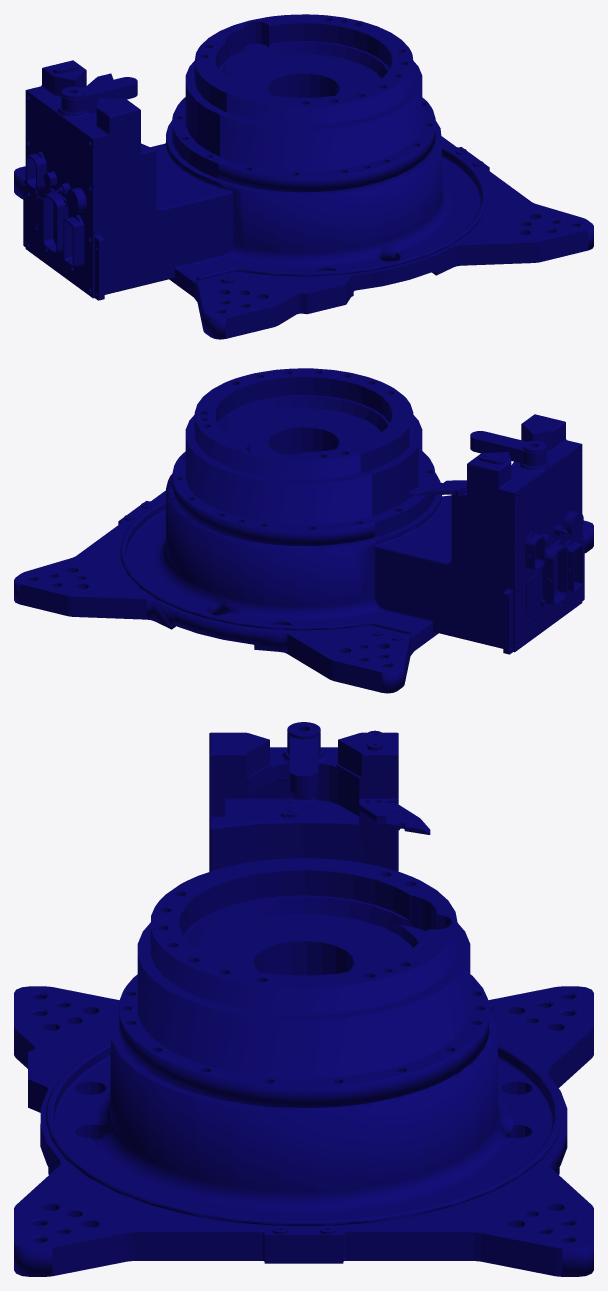
3 views of the same model, one above another, from view 1: azimuth 30°, elevation 25°; view 2: azimuth 150°, elevation 25°; view 3: azimuth 270°, elevation 25° (orthographic). The views are drawn at different scales.
Visible parts, largest first — view 1: ES165D Base; view 2: ES165D Base; view 3: ES165D Base.
Boxes of the visible parts, x1,y1,x2,y2 form: ES165D Base: (14, 14, 593, 339); ES165D Base: (14, 368, 593, 693); ES165D Base: (14, 722, 593, 1276).
Size of the model in its own units: 0.9219 by 0.7354 by 0.365.
